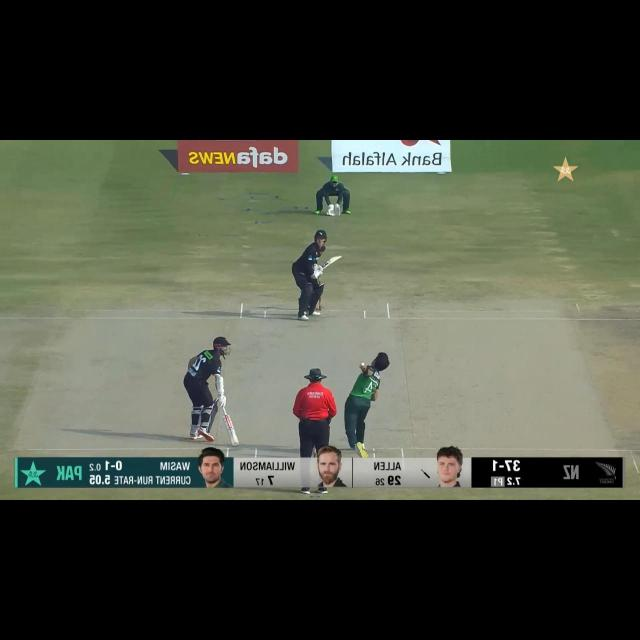bat: (221, 415, 239, 446), (321, 255, 343, 268)
toe: (232, 439, 240, 446), (332, 256, 343, 260)
